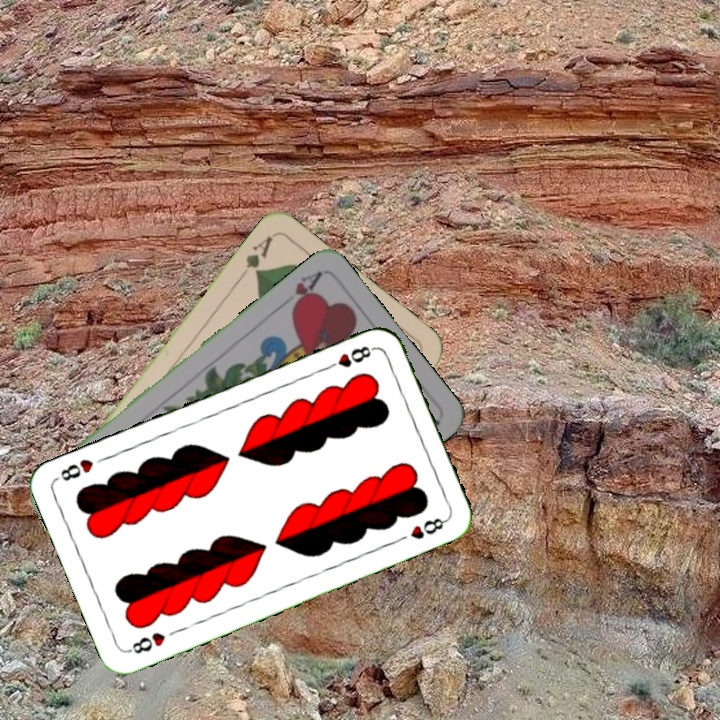GA: (241, 231, 275, 279)
H8: (321, 342, 377, 373), (124, 628, 168, 657)
HA: (275, 267, 324, 315)
